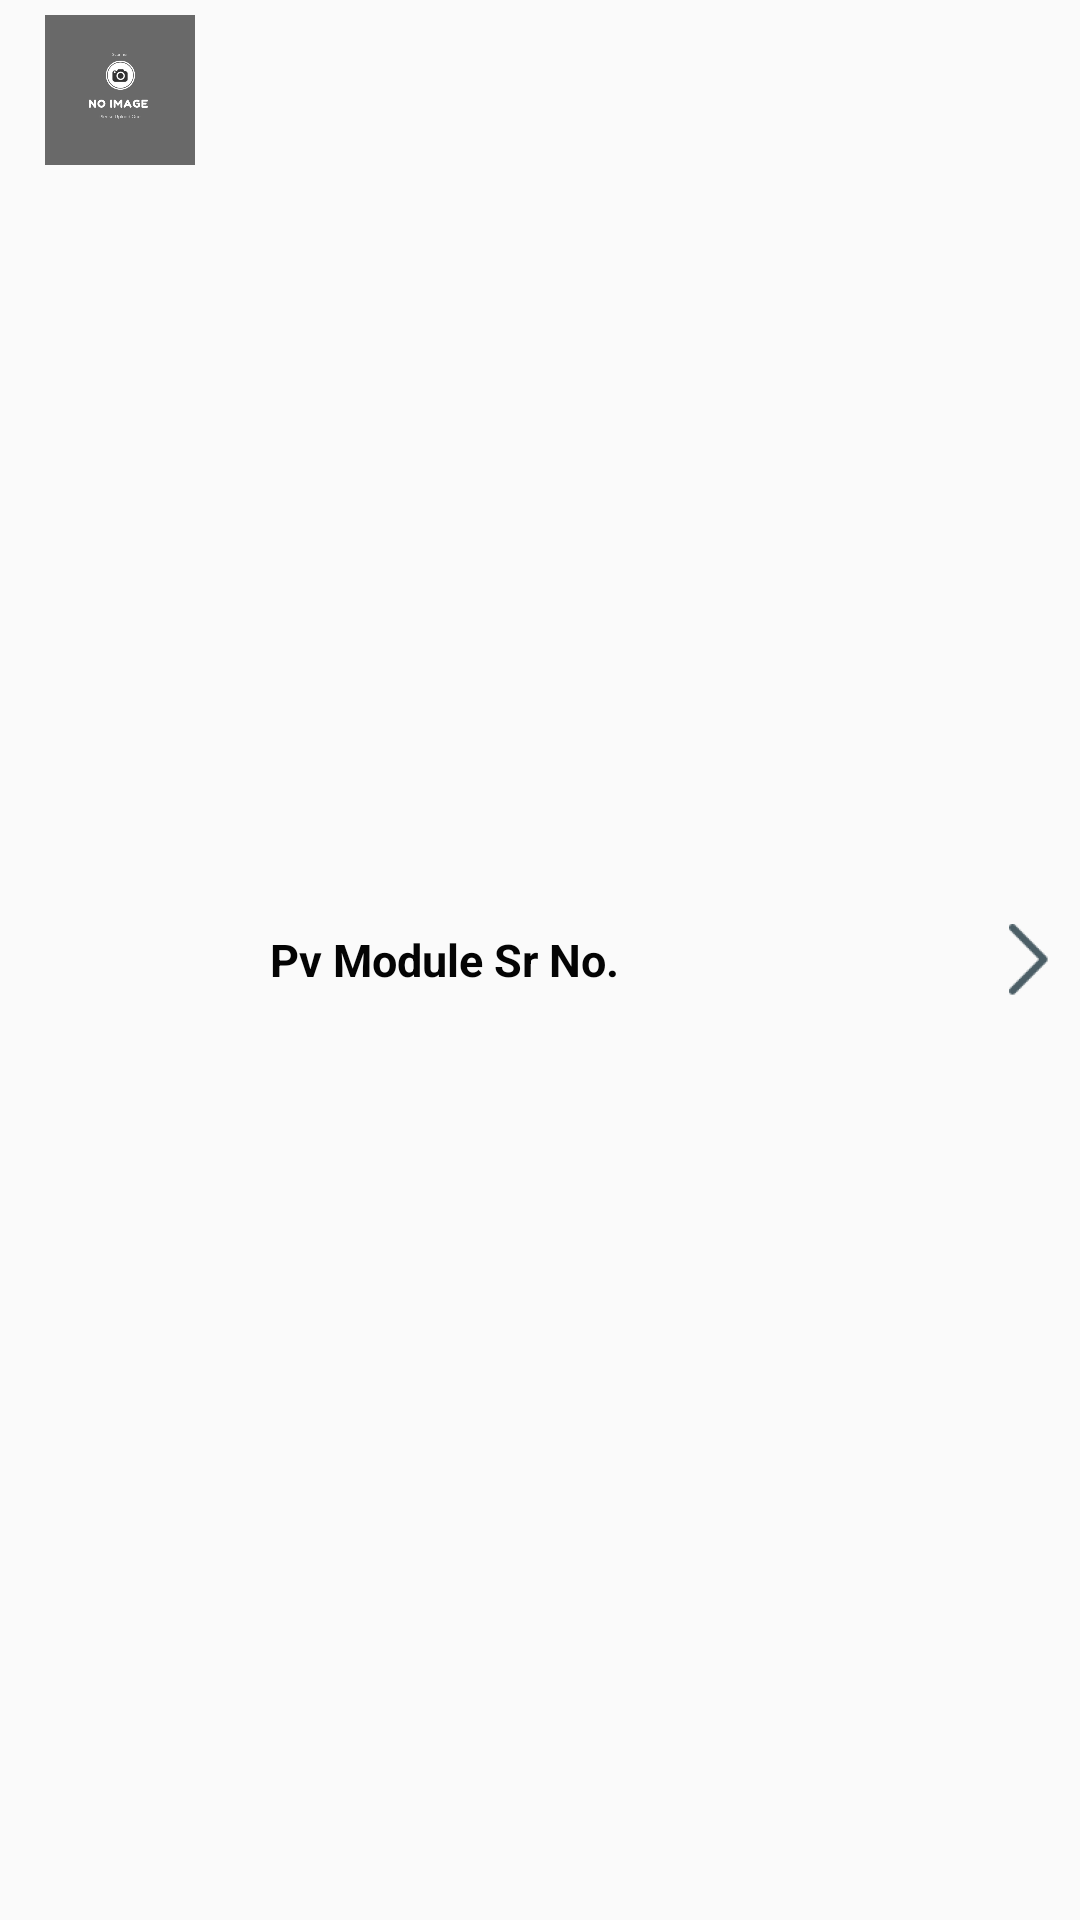

Named icons in this screenshot (1080w x 1920h) and their centers, point (x, y):
next: point (1028, 959)
upload photo: point (120, 90)
